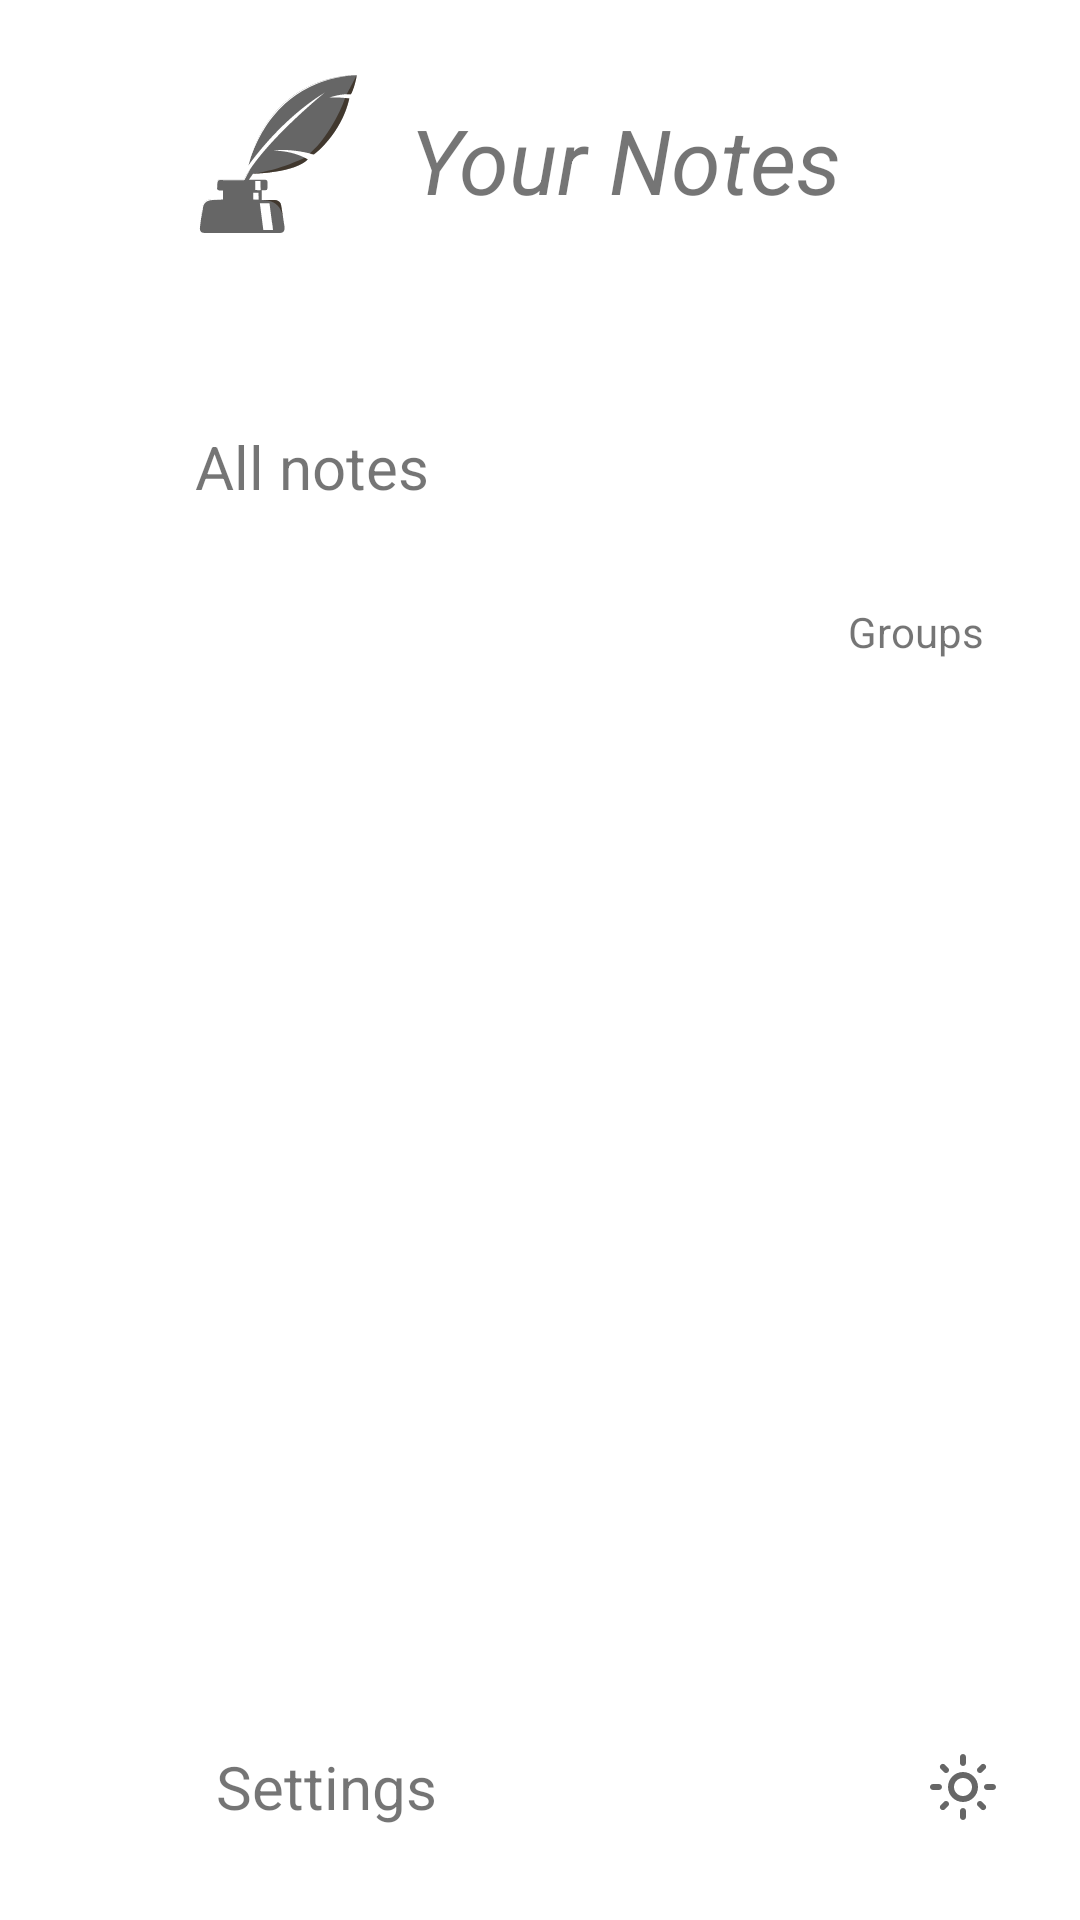

Screen size 1080px×1920px. Icon name, then its center in pixels as (x=x, y=y):
mode: (x=963, y=1787)
pero good: (x=278, y=154)
